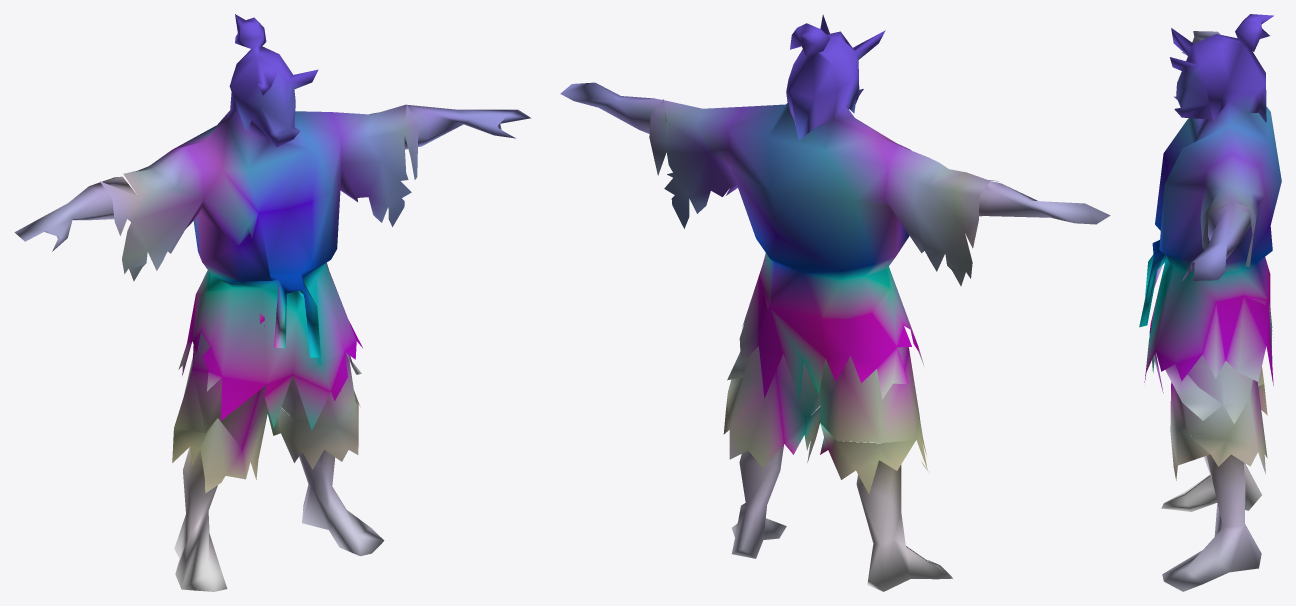
The model's file is oni_lod1.glb.
3 views of the same model, side by side, from view 1: azimuth 30°, elevation 25°; view 2: azimuth 150°, elevation 25°; view 3: azimuth 270°, elevation 25° (orthographic). The views are drawn at different scales.
Parts seen in each view (by area): view 1: zombie_body; view 2: zombie_body; view 3: zombie_body.
Part boxes in pixels (x1,y1,x2,y2): zombie_body: (14,14,531,591); zombie_body: (560,14,1110,591); zombie_body: (1139,14,1281,591).
Size of the model in its own units: 0.9984 by 0.9787 by 0.241.
